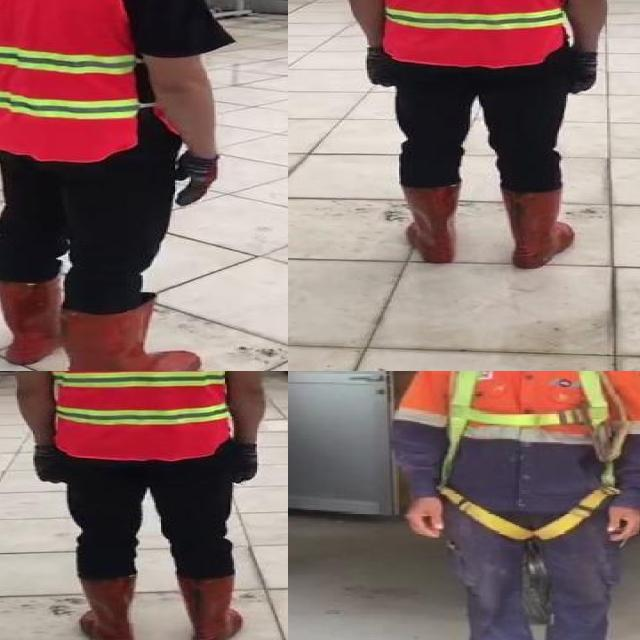boots: (61, 298, 201, 371), (500, 187, 577, 269), (0, 277, 61, 368), (399, 184, 461, 265), (177, 574, 244, 640), (76, 574, 138, 640)
hand_glove: (173, 153, 220, 205), (36, 444, 68, 484), (230, 444, 260, 485), (365, 47, 394, 88), (572, 49, 596, 93)
hand_noglove: (400, 493, 451, 544), (599, 499, 640, 552)
person: (0, 0, 248, 371), (322, 0, 624, 283), (2, 371, 283, 640), (384, 371, 640, 640)
vest: (0, 0, 157, 160), (31, 371, 239, 458), (361, 0, 578, 67)
